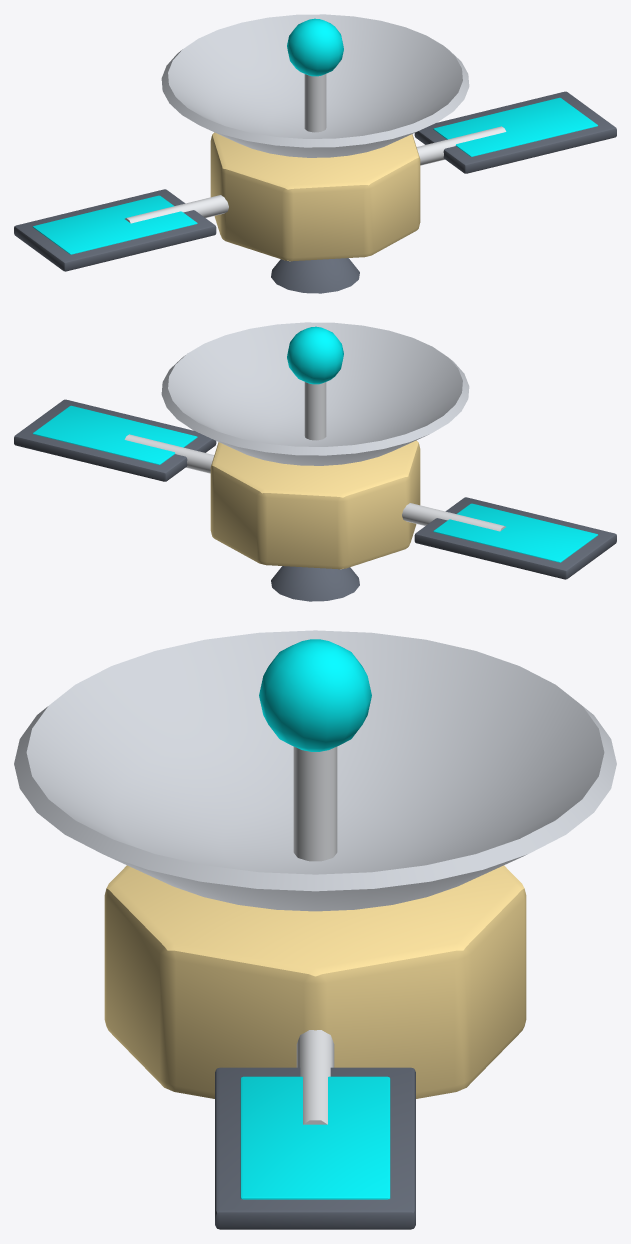
File: space_probe.glb
3 renders of one model, top to bottom at view 1: azimuth 30°, elevation 25°; view 2: azimuth 150°, elevation 25°; view 3: azimuth 270°, elevation 25°, orthographic. The views are drawn at different scales.
Parts seen in each view (by area): view 1: Cylinder; view 2: Cylinder; view 3: Cylinder.
Part boxes in pixels (x1,y1,x2,y2): Cylinder: (14,14,616,293); Cylinder: (14,322,616,601); Cylinder: (14,630,616,1229).
Size of the model in its own units: 1.99 by 0.87 by 0.96.
